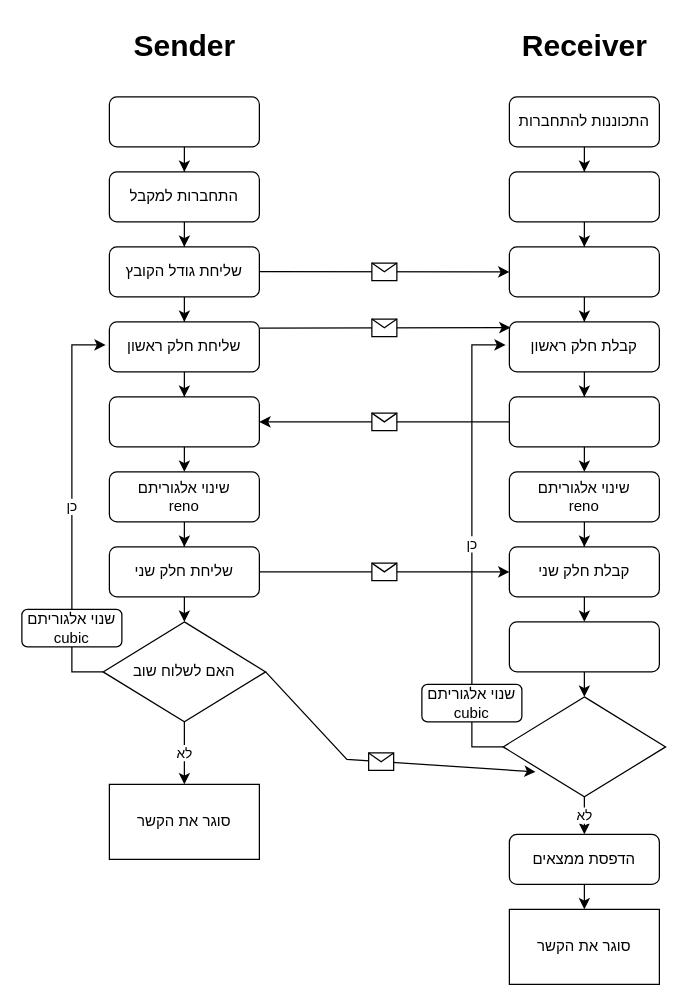
Image size: 688x1006. Some labels were removed from this diagram. Each missing label, with the centre of its shape:
"התחברות לשולח" belongs at (x=583, y=196).
"מה התקבל מהשולח" belongs at (x=584, y=746).
"קבלת אימות" belongs at (x=183, y=421).
"קבלת גודל הקובץ" belongs at (x=583, y=271).
"קריאה של קובץ" belongs at (x=183, y=121).
"שליחת אימות" belongs at (x=583, y=421).
"שמירת הזמנים" belongs at (x=583, y=646).
